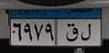6: (12, 21, 22, 42)
7: (34, 22, 43, 42)
9: (44, 22, 55, 43), (23, 21, 33, 42)
laam: (80, 22, 92, 42)
qaaf: (65, 22, 79, 43)
